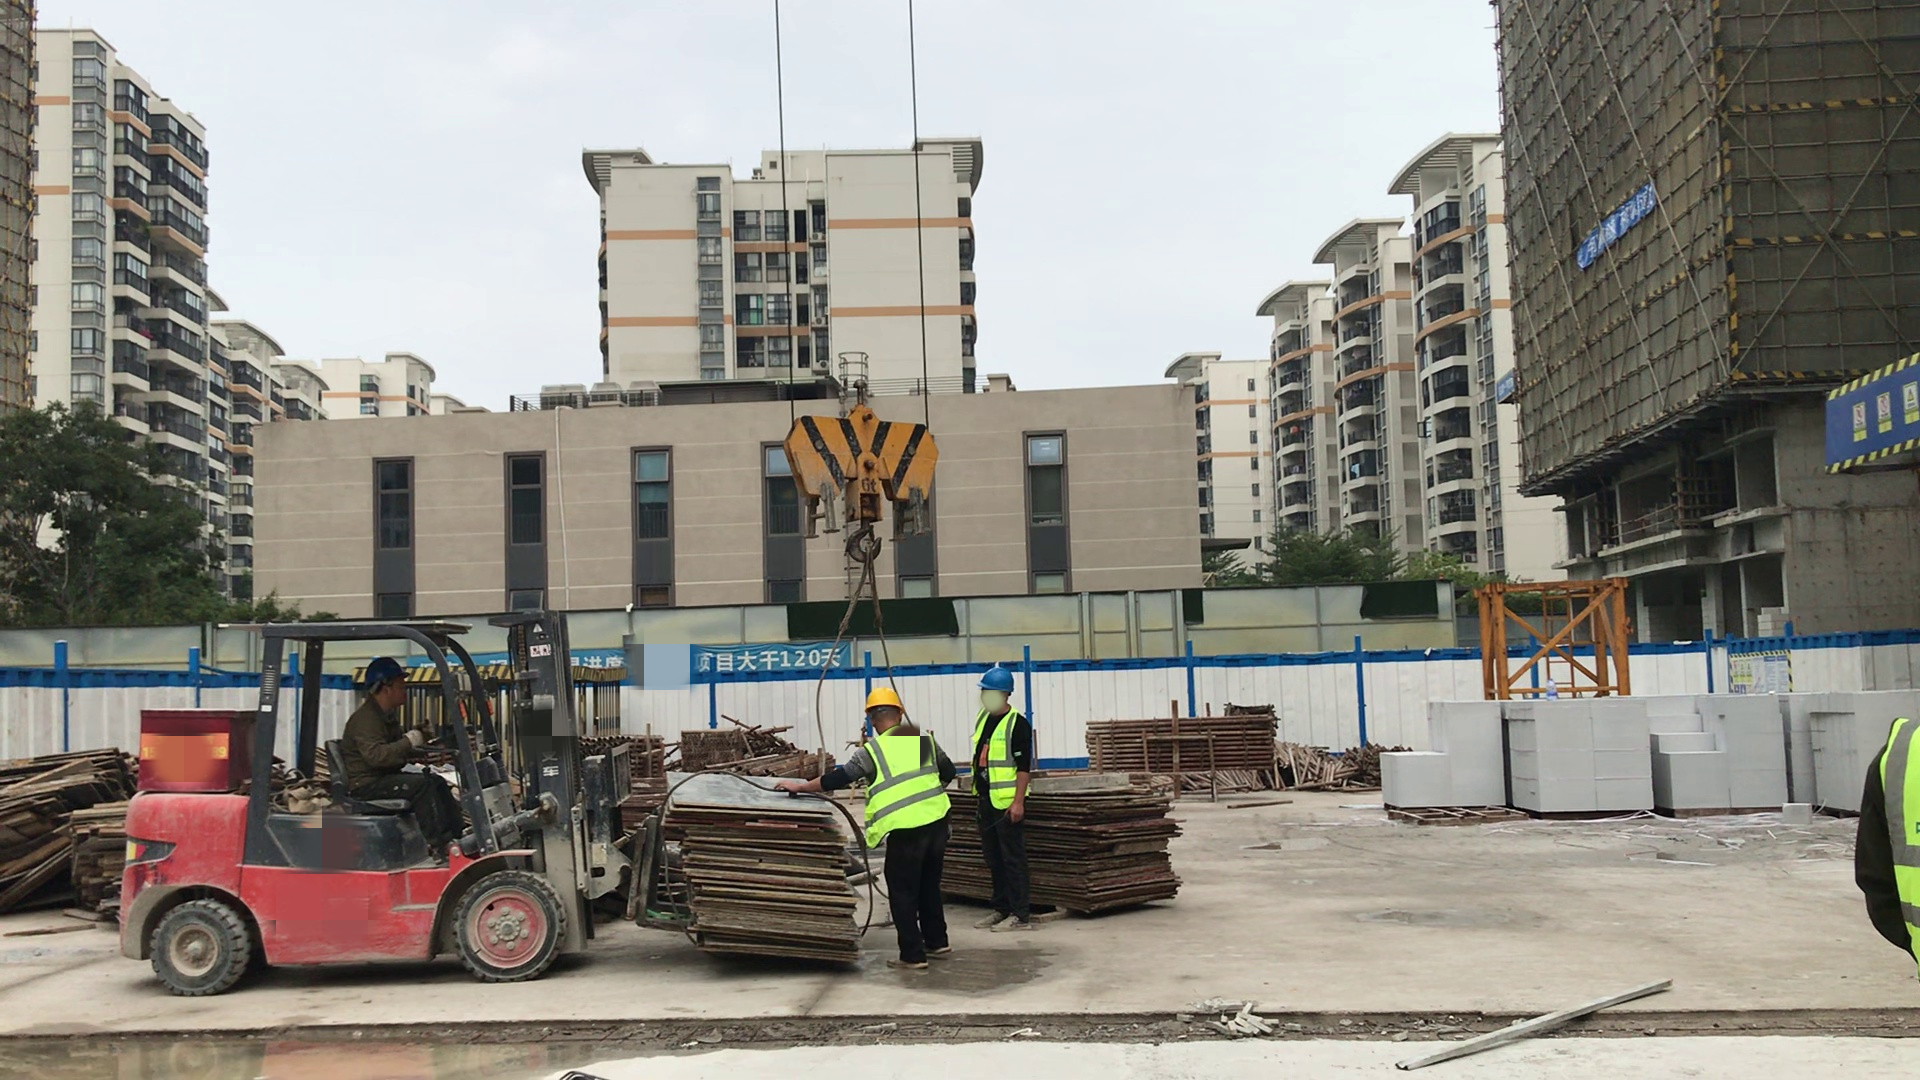board: (1, 743, 341, 919), (661, 766, 865, 974), (918, 760, 1185, 916)
brick: (1376, 686, 1920, 826)
helmet: (359, 653, 412, 703), (855, 689, 905, 716), (973, 666, 1012, 698)
hook: (760, 375, 953, 555)
person: (767, 684, 974, 975), (339, 652, 466, 851), (968, 664, 1044, 936), (1861, 691, 1920, 1007)
slogan: (575, 642, 851, 679)
vest: (1871, 713, 1920, 948), (855, 735, 944, 842), (972, 700, 1026, 811)
